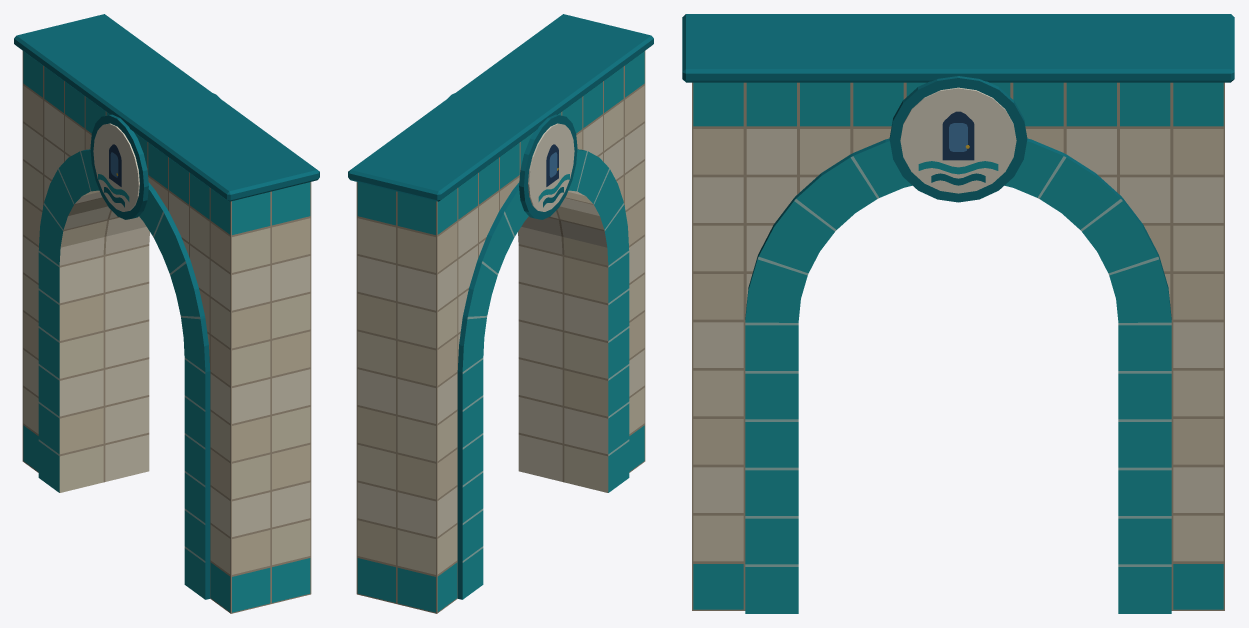
Rendered from portal_arch.glb.
3 renders of one model, left to right at view 1: azimuth 30°, elevation 25°; view 2: azimuth 150°, elevation 25°; view 3: azimuth 270°, elevation 25°, orthographic. The views are drawn at different scales.
Parts seen in each view (by area): view 1: PortalArch; view 2: PortalArch; view 3: PortalArch.
Part boxes in pixels (x1,y1,x2,y2): PortalArch: [14, 14, 319, 613]; PortalArch: [348, 14, 653, 613]; PortalArch: [682, 14, 1234, 613].
Bounding box in the file's own units: 1.33 × 5.07 × 4.66.
